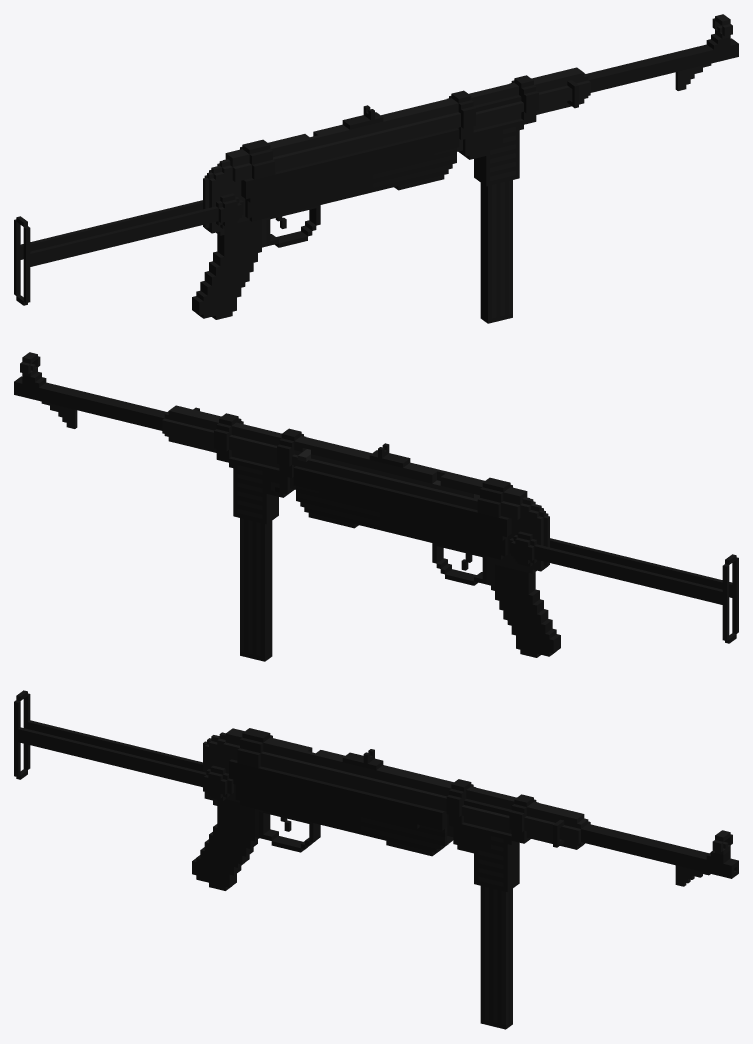
Rendered from Mp40_prefab.obj.
3 renders of one model, top to bottom at view 1: azimuth 30°, elevation 25°; view 2: azimuth 150°, elevation 25°; view 3: azimuth 330°, elevation 25°, orthographic.
Bounding box in the file's own units: 17.1 × 5.6 × 0.8.
Materials: 1 (1 with a texture image).
